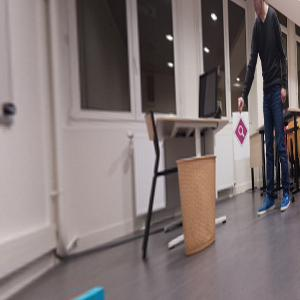search: (235, 118, 248, 145)
